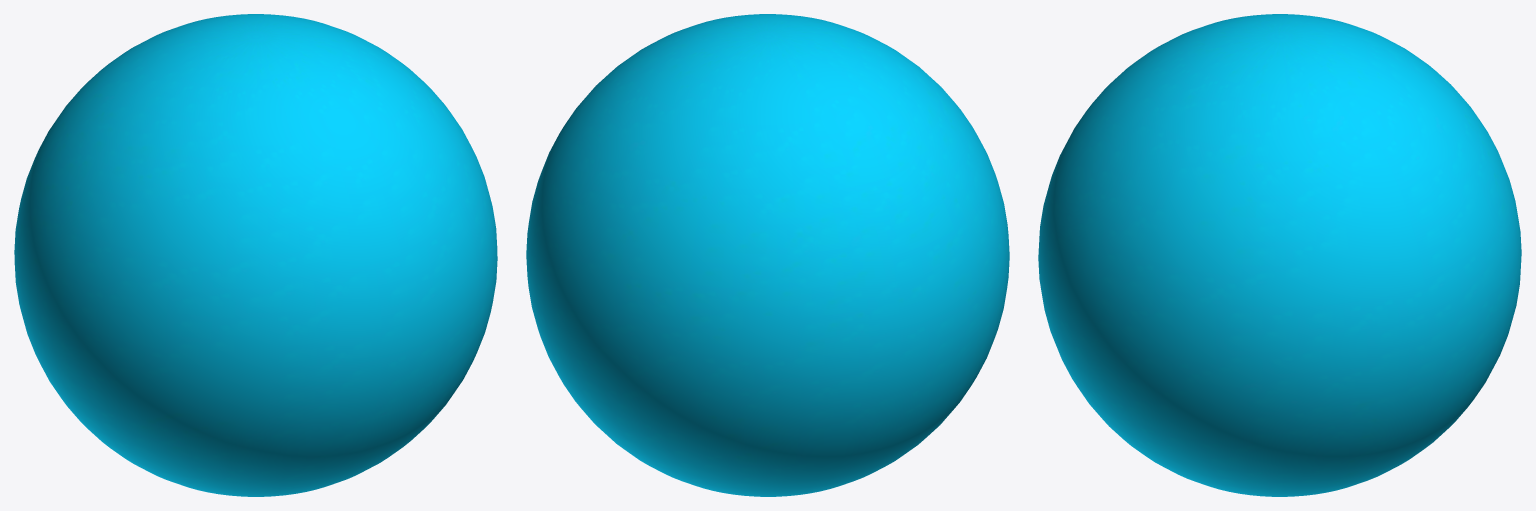
File: earth.obj
3 renders of one model, left to right at view 1: azimuth 30°, elevation 25°; view 2: azimuth 150°, elevation 25°; view 3: azimuth 270°, elevation 25°, orthographic.
Parts seen in each view (by area): view 1: Earth_globe_glowing_hologram; view 2: Earth_globe_glowing_hologram; view 3: Earth_globe_glowing_hologram.
Boxes of the visible parts, x1,y1,x2,y2 form: Earth_globe_glowing_hologram: [14, 14, 497, 496]; Earth_globe_glowing_hologram: [526, 14, 1009, 496]; Earth_globe_glowing_hologram: [1038, 14, 1521, 496].
Size of the model in its own units: 5.76 by 5.76 by 5.76.
